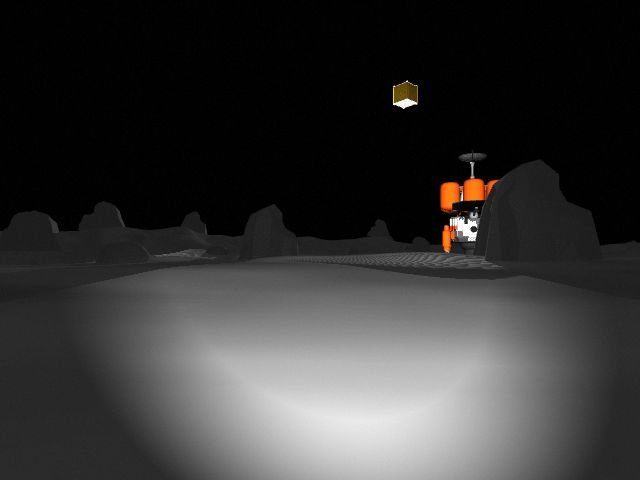cubesat: (389, 77, 421, 111)
